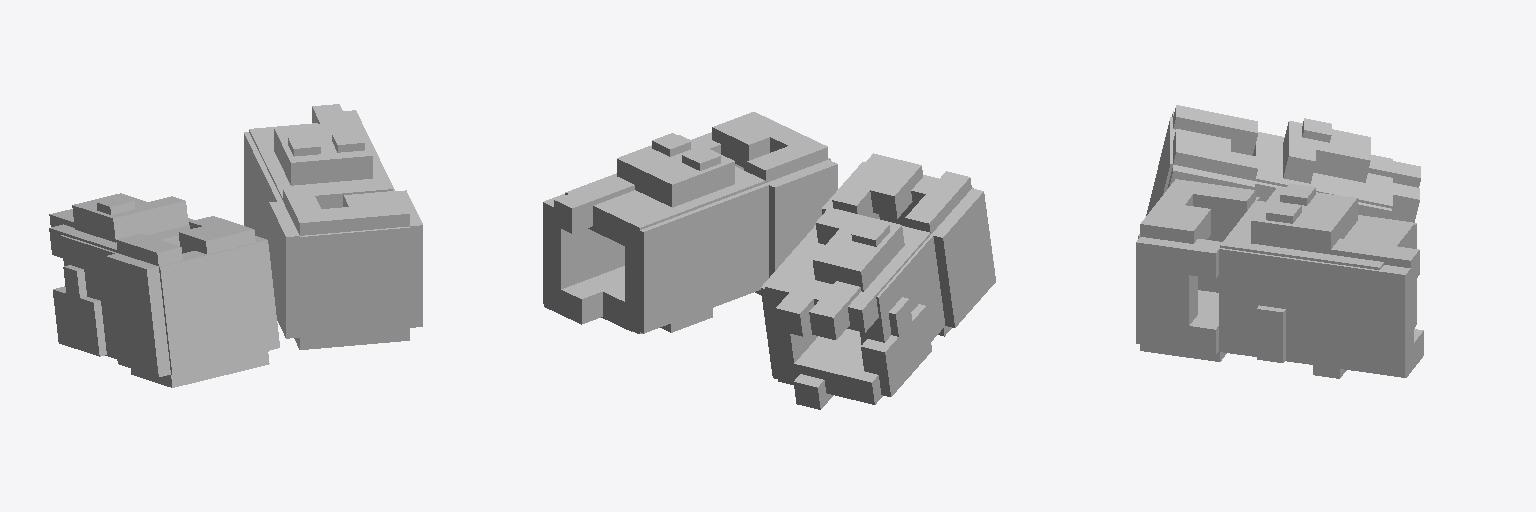
Rendered from x01_leggings_broken.obj.
3 views of the same model, side by side, from view 1: azimuth 30°, elevation 25°; view 2: azimuth 150°, elevation 25°; view 3: azimuth 270°, elevation 25° (orthographic).
Parts seen in each view (by area): view 1: LeftLeg; view 2: LeftLeg; view 3: LeftLeg.
Boxes of the visible parts, x1=… form: LeftLeg: x1=49, y1=104, x2=422, y2=387; LeftLeg: x1=543, y1=112, x2=995, y2=409; LeftLeg: x1=1136, y1=105, x2=1423, y2=378.
Size of the model in its own units: 0.8376 by 0.4588 by 0.6424.